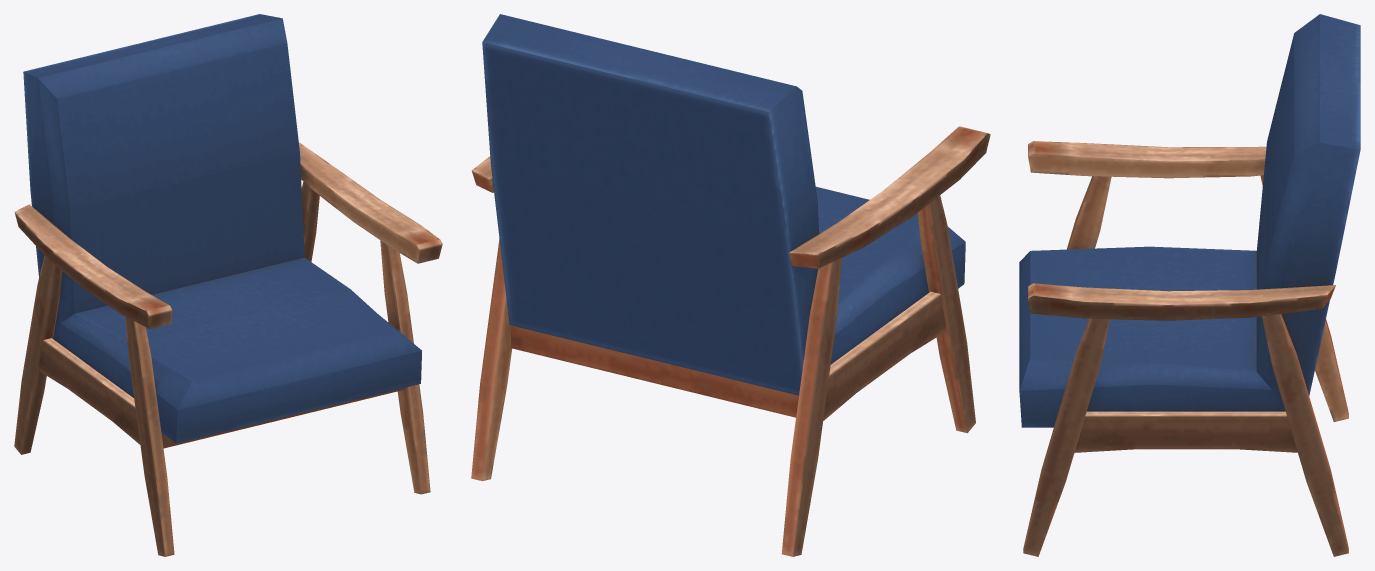
Rendered from armchair.glb.
The picture shows the model from 3 angles, left to right: view 1: azimuth 30°, elevation 25°; view 2: azimuth 150°, elevation 25°; view 3: azimuth 270°, elevation 25°; orthographic projection. The views are drawn at different scales.
Visible parts, largest first — view 1: Armchair_Armchair_0; view 2: Armchair_Armchair_0; view 3: Armchair_Armchair_0.
Boxes of the visible parts, x1=… form: Armchair_Armchair_0: x1=14, y1=14, x2=442, y2=556; Armchair_Armchair_0: x1=471, y1=14, x2=990, y2=556; Armchair_Armchair_0: x1=1019, y1=14, x2=1360, y2=556.
Bounding box in the file's own units: 113 × 135 × 102.
Materials: 1 (1 with a texture image).
